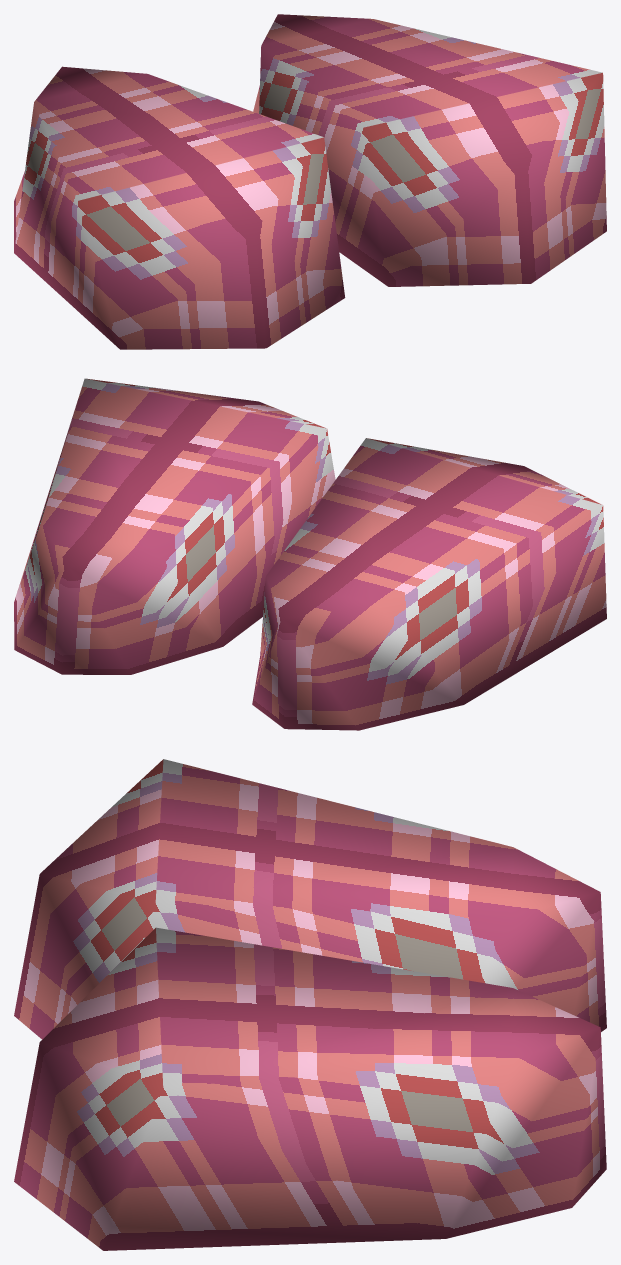
The model's file is 2808foot000_r.gltf.
3 views of the same model, one above another, from view 1: azimuth 30°, elevation 25°; view 2: azimuth 150°, elevation 25°; view 3: azimuth 270°, elevation 25° (orthographic). The views are drawn at different scales.
Parts seen in each view (by area): view 1: 2808foot000_r; view 2: 2808foot000_r; view 3: 2808foot000_r.
Part boxes in pixels (<box>): 2808foot000_r: <box>14,14,606,349</box>; 2808foot000_r: <box>14,378,606,730</box>; 2808foot000_r: <box>14,759,606,1250</box>.
Size of the model in its own units: 0.8501 by 0.2214 by 0.6479.
Materials: 1 (1 with a texture image).
